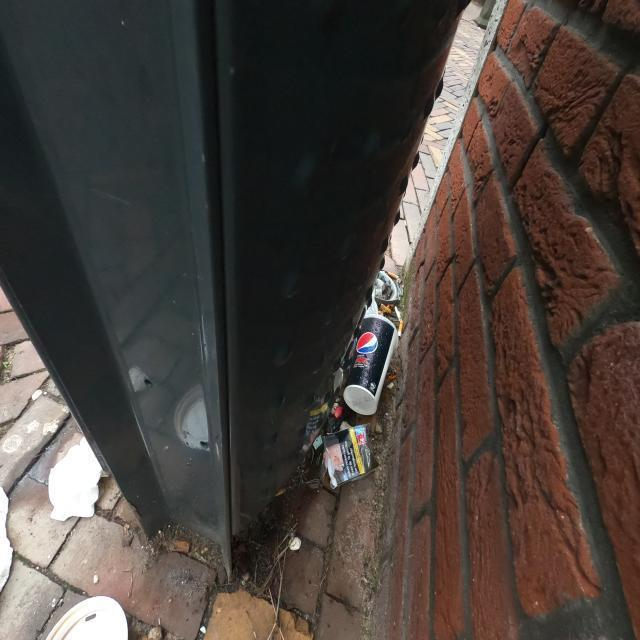Cup: (342, 313, 398, 417)
Paper: (48, 436, 104, 522), (323, 422, 381, 490), (45, 594, 128, 640), (0, 485, 14, 594)
